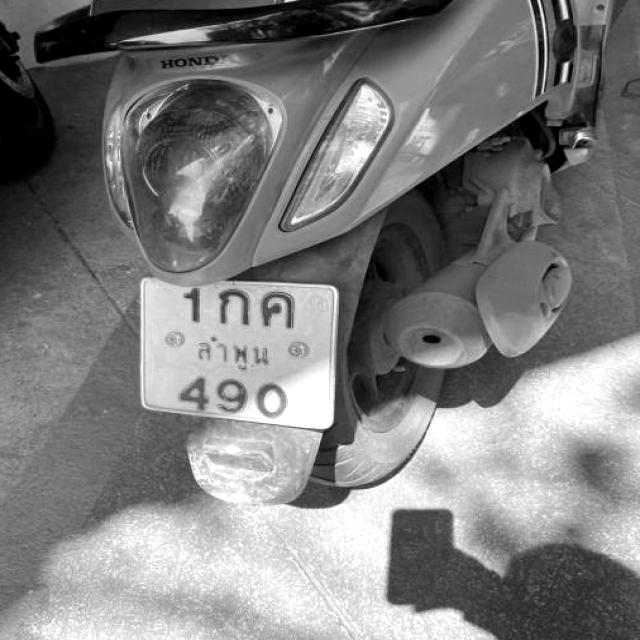letters: (174, 367, 215, 415), (217, 288, 254, 328), (261, 290, 293, 326), (258, 381, 288, 418), (220, 374, 245, 417), (180, 285, 207, 324)
license-plate: (141, 276, 334, 431)
province: (191, 330, 276, 370)
